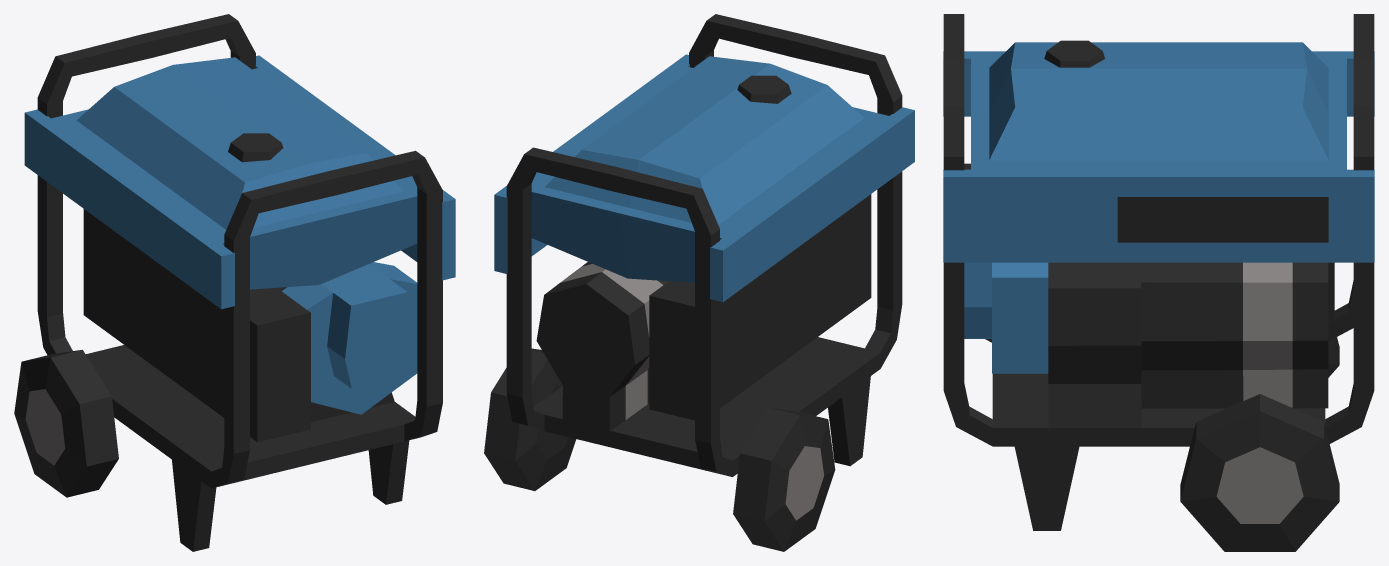
File: generator.glb
The picture shows the model from 3 angles, left to right: view 1: azimuth 30°, elevation 25°; view 2: azimuth 150°, elevation 25°; view 3: azimuth 270°, elevation 25°; orthographic projection. The views are drawn at different scales.
Visible parts, largest first — view 1: generator; view 2: generator; view 3: generator.
Boxes of the visible parts, x1,y1,x2,y2 form: generator: (14,14,455,551); generator: (484,14,914,551); generator: (943,14,1374,551).
Size of the model in its own units: 0.6294 by 0.7651 by 0.7202.
1 material, 1 textured.
